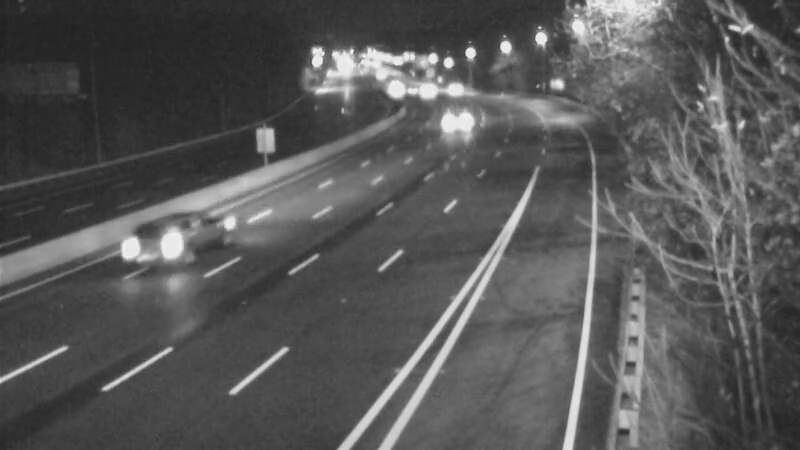vehicle: (124, 210, 204, 290), (427, 65, 477, 115), (403, 63, 453, 113), (387, 67, 437, 117), (372, 66, 422, 116), (431, 96, 481, 146)
